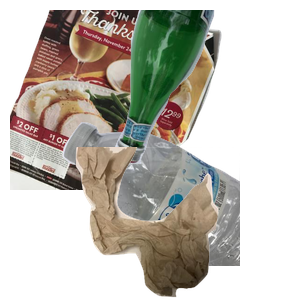glass: (109, 10, 300, 167)
paper: (10, 10, 224, 190)
plastic: (60, 120, 300, 300)
trash: (73, 147, 300, 300)
